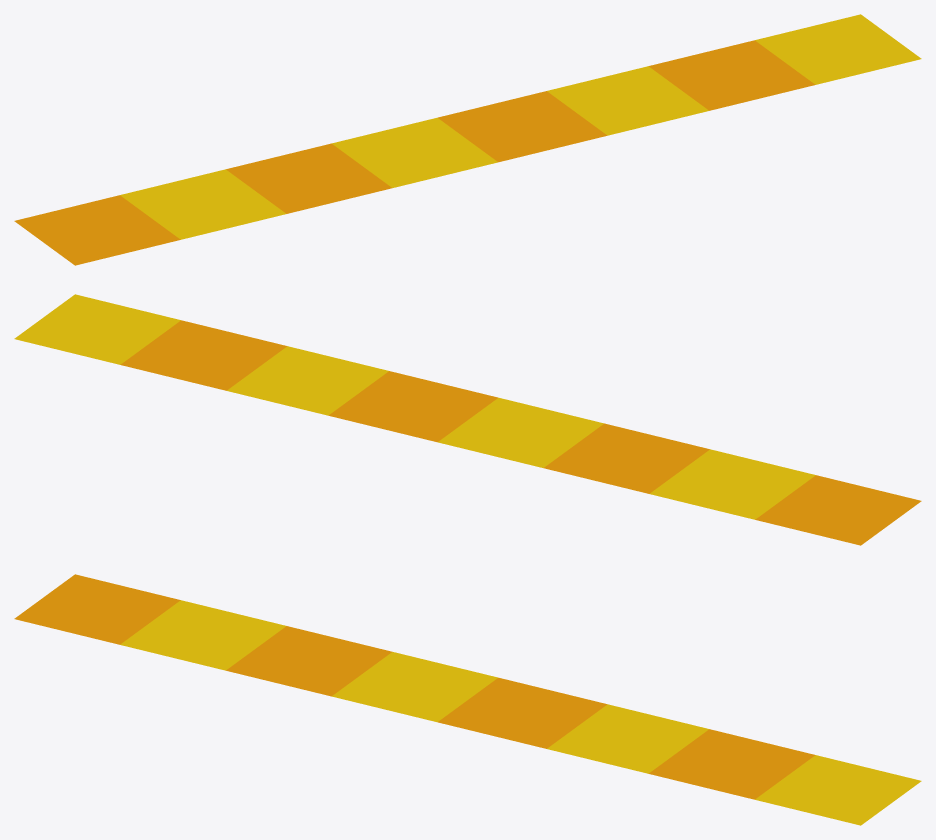
The model's file is Daskex8.fbx.
The picture shows the model from 3 angles, top to bottom: view 1: azimuth 30°, elevation 25°; view 2: azimuth 150°, elevation 25°; view 3: azimuth 330°, elevation 25°; orthographic projection.
Parts seen in each view (by area): view 1: Plane; view 2: Plane; view 3: Plane.
Part boxes in pixels (bbox=[...]): Plane: bbox=[14, 14, 921, 265]; Plane: bbox=[14, 294, 921, 545]; Plane: bbox=[14, 574, 921, 825].
Bounding box in the file's own units: 8 × 1.63e-07 × 1.
